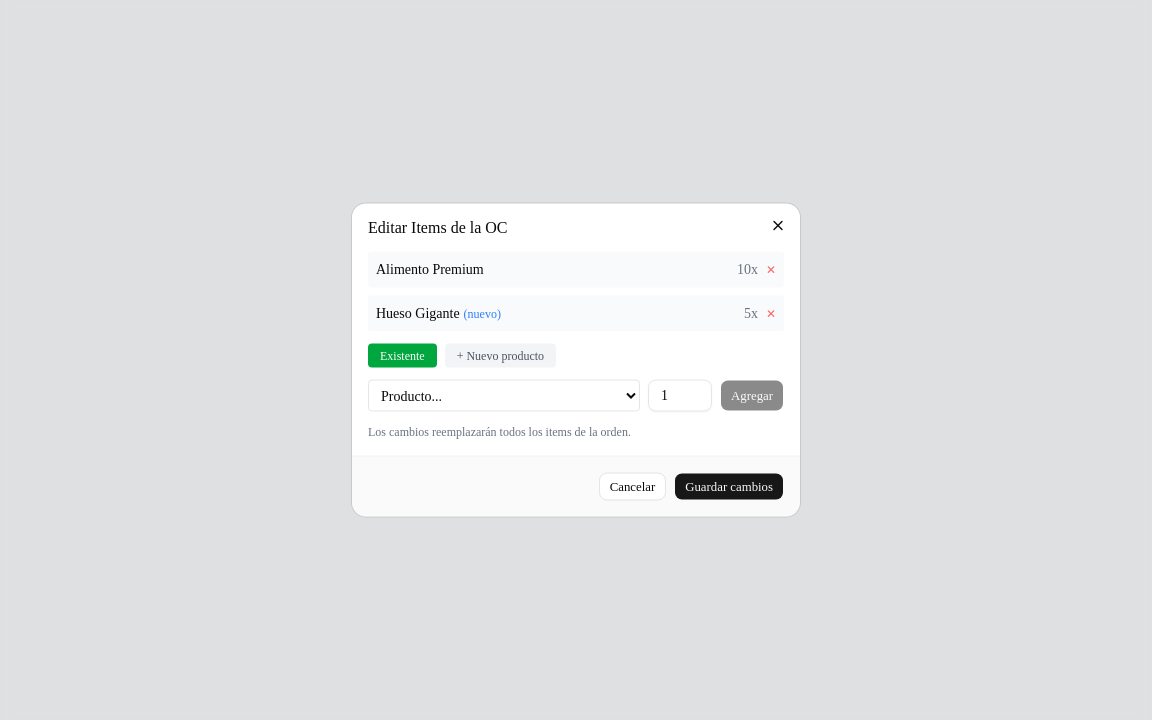
EditOrderItemsDialog › EOI-02: agregar items adicionales › permite agregar un producto nuevo
Click the button "+ Nuevo producto" at point(500, 356), box x1=445 y1=344 x2=556 y2=368
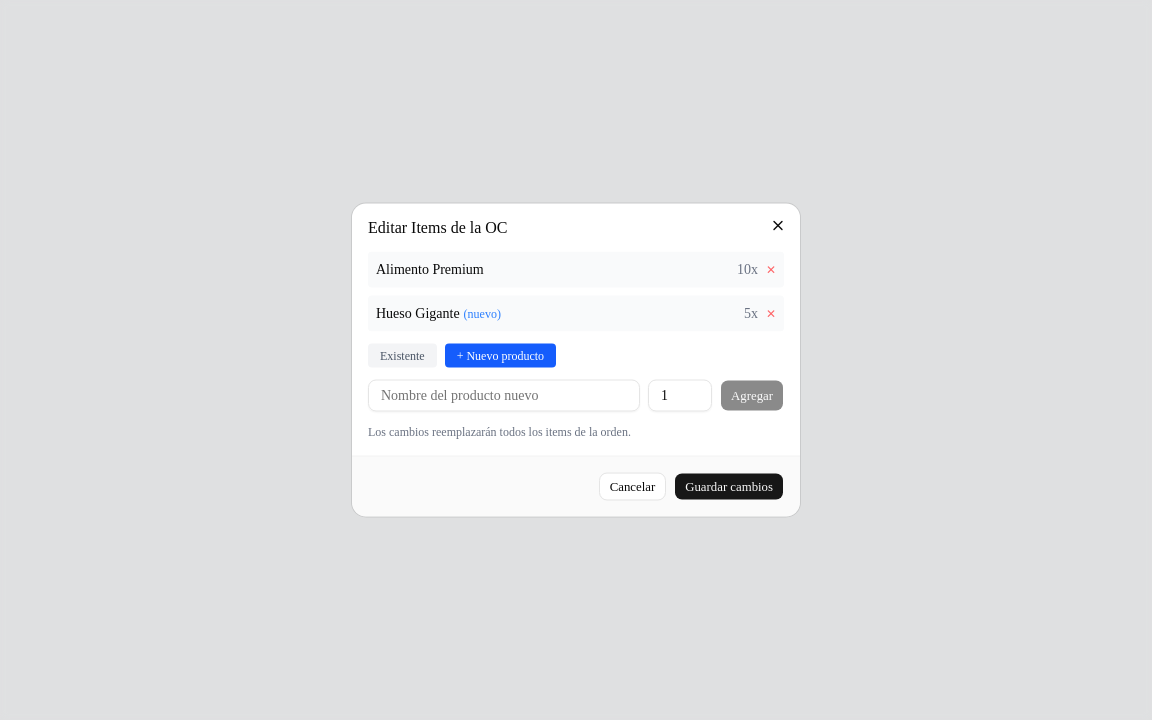
Type "Collar Perro" into the field with placeholder "Nombre del producto nuevo" at point(504, 396), box x1=368 y1=380 x2=640 y2=412
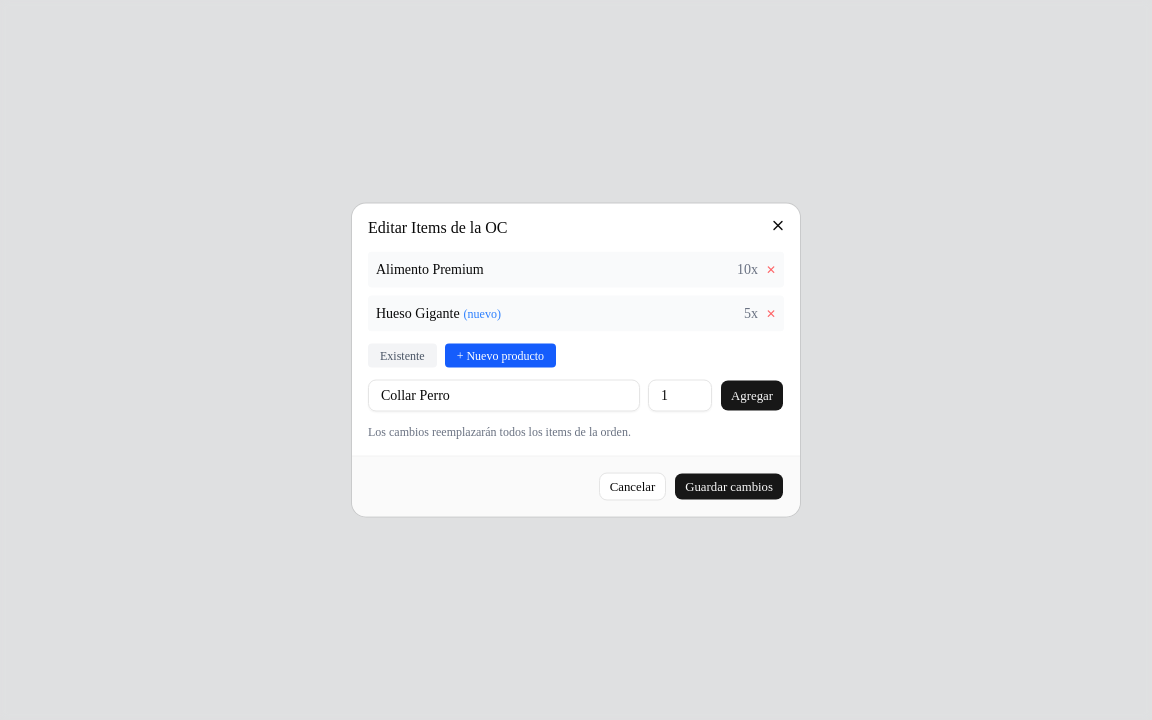
Click the button "Agregar" at point(752, 396), box x1=720 y1=380 x2=784 y2=412
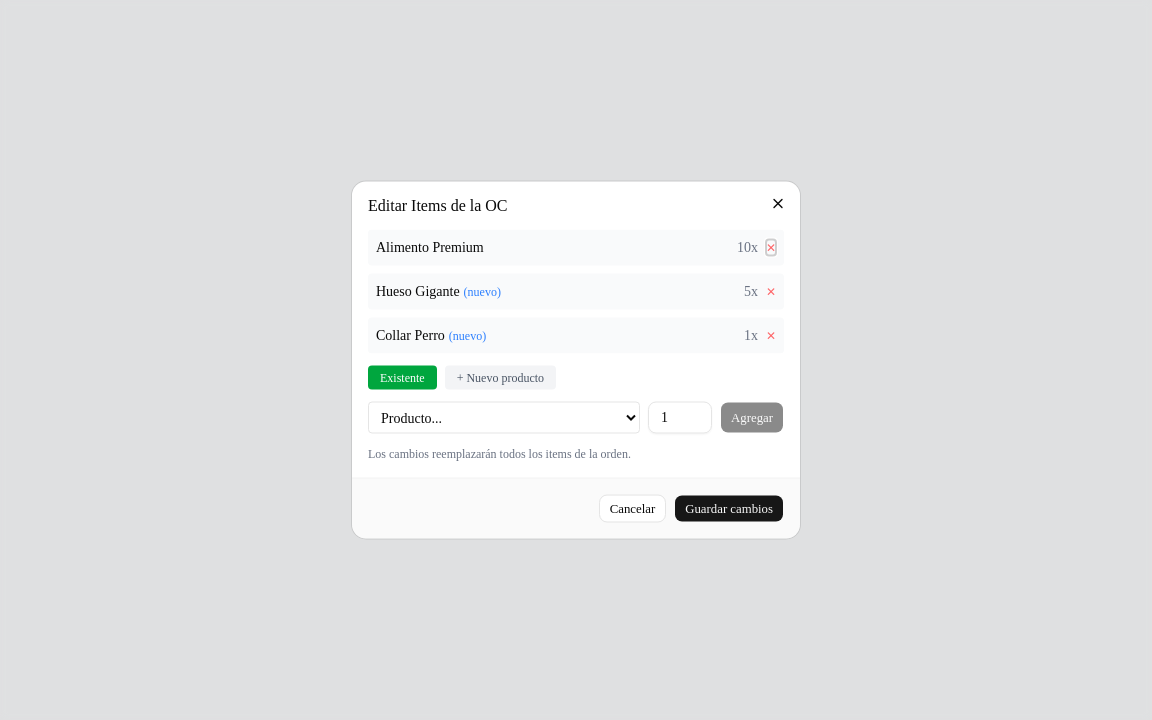
Expected: the text "Collar Perro" is shown, x1=376 y1=328 x2=445 y2=342
